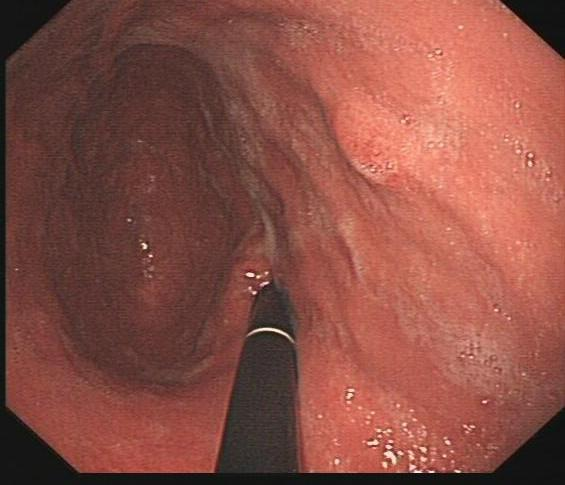Polyp: (328, 102, 409, 195)
